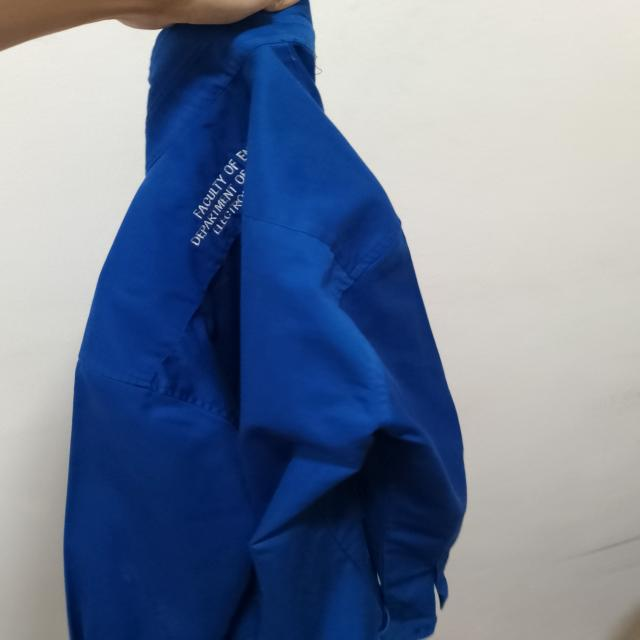person_without_labcoat: (64, 0, 466, 640)
